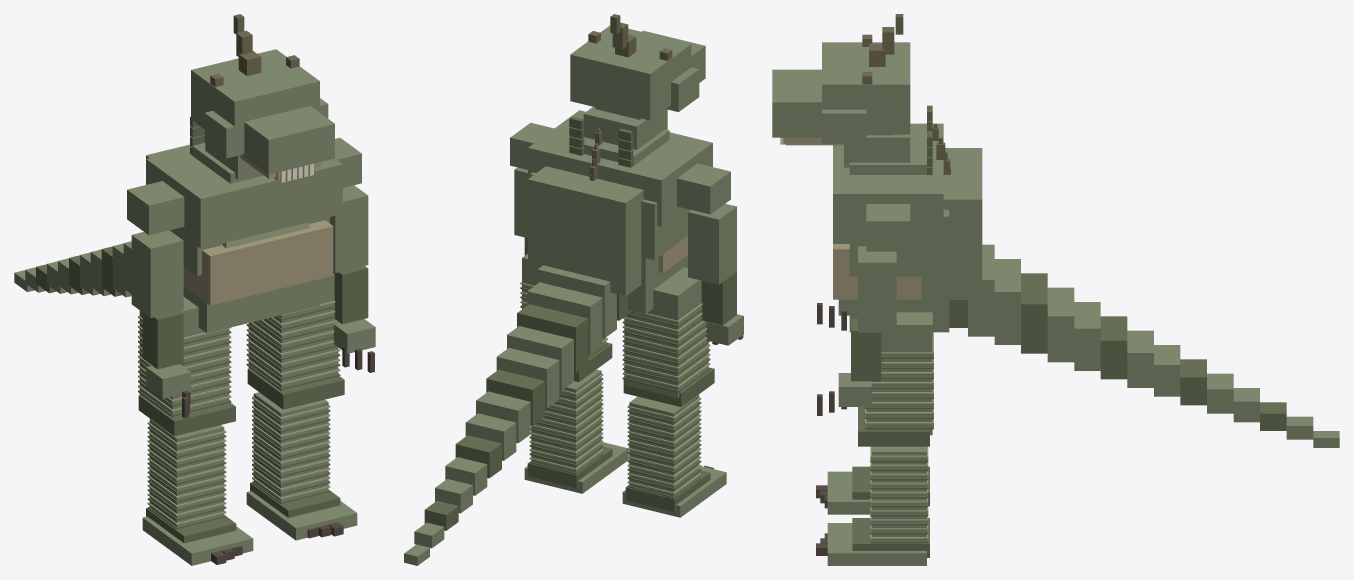
Rendered from gozila.gltf.
3 views of the same model, side by side, from view 1: azimuth 30°, elevation 25°; view 2: azimuth 150°, elevation 25°; view 3: azimuth 270°, elevation 25° (orthographic). The views are drawn at different scales.
Parts seen in each view (by area): view 1: chest, belly_lower, cranium, snout, right_shin, right_thigh, left_shin, left_upper_arm, pelvis, left_thigh, right_upper_arm, left_shoulder (+20 smaller); view 2: back_core, cranium, chest, left_thigh, left_shin, left_upper_arm, right_shin, tail_3, left_shoulder, tail_4, neck_mid, tail_5 (+27 smaller); view 3: chest, cranium, back_core, right_thigh, right_shin, snout, right_upper_arm, tail_3, torso_mid, right_foot, tail_4, right_shoulder (+21 smaller).
Part boxes in pixels (left/top/right/bottom): chest: left=146, top=148, right=342, bottom=248; belly_lower: left=183, top=220, right=333, bottom=305; cranium: left=191, top=49, right=319, bottom=151; snout: left=242, top=106, right=334, bottom=174; right_shin: left=253, top=392, right=328, bottom=501; right_thigh: left=248, top=273, right=338, bottom=391; left_shin: left=149, top=419, right=224, bottom=527; left_upper_arm: left=131, top=230, right=183, bottom=317; pelvis: left=183, top=279, right=320, bottom=332; left_thigh: left=139, top=297, right=229, bottom=417; right_upper_arm: left=330, top=185, right=368, bottom=272; left_shoulder: left=127, top=181, right=184, bottom=235; back_core: left=528, top=166, right=643, bottom=296; cranium: left=570, top=25, right=691, bottom=120; chest: left=528, top=110, right=712, bottom=226; left_thigh: left=624, top=267, right=708, bottom=398; left_shin: left=629, top=394, right=699, bottom=496; left_upper_arm: left=688, top=203, right=736, bottom=284; right_shin: left=531, top=369, right=601, bottom=472; tail_3: left=527, top=282, right=602, bottom=355; left_shoulder: left=677, top=163, right=730, bottom=214; tail_4: left=517, top=304, right=588, bottom=373; neck_mid: left=583, top=106, right=667, bottom=149; tail_5: left=507, top=326, right=573, bottom=390; chest: left=833, top=123, right=943, bottom=243; cranium: left=822, top=42, right=910, bottom=134; back_core: left=943, top=148, right=982, bottom=299; right_thigh: left=866, top=312, right=932, bottom=435; right_shin: left=871, top=446, right=926, bottom=541; snout: left=772, top=69, right=821, bottom=137; right_upper_arm: left=858, top=246, right=896, bottom=332; tail_3: left=994, top=259, right=1020, bottom=344; torso_mid: left=849, top=209, right=949, bottom=276; right_foot: left=827, top=523, right=926, bottom=565; tail_4: left=1021, top=273, right=1047, bottom=353; right_shoulder: left=866, top=204, right=910, bottom=251.
Bounding box in the file's own units: 36.8 × 81.28 × 82.08.
